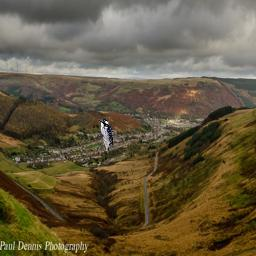Woodpecker: (98, 119, 113, 154)
